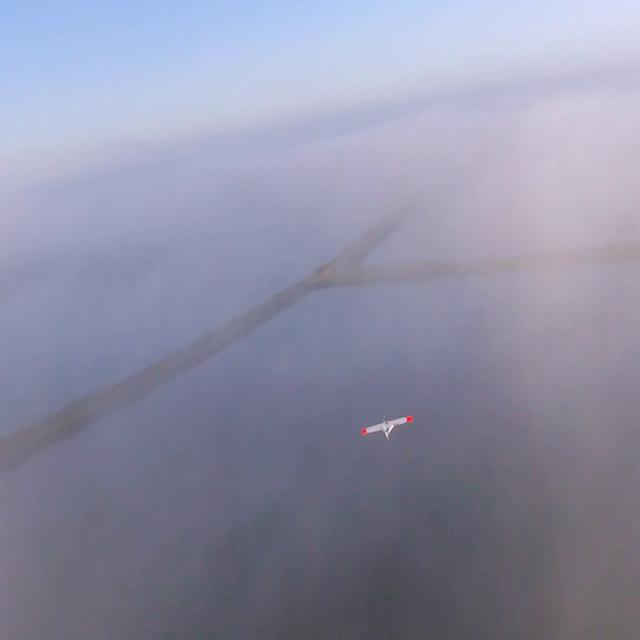iha: (362, 417, 412, 448)
